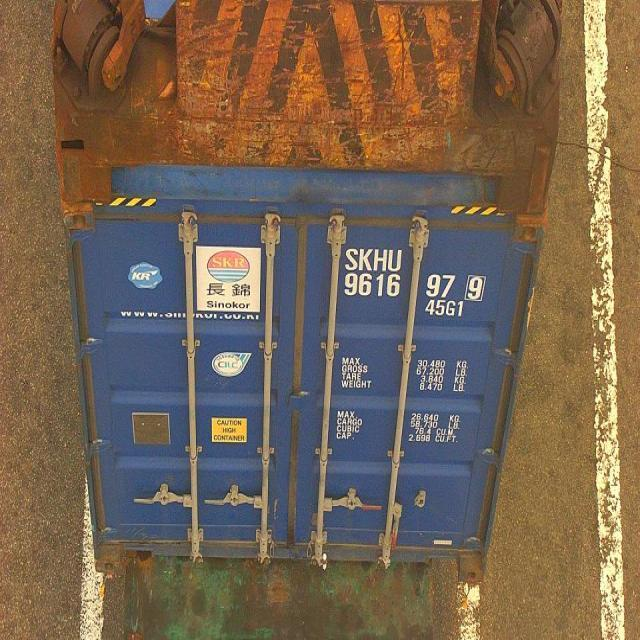ISO: (426, 299, 466, 319)
container_number: (344, 242, 500, 302)
